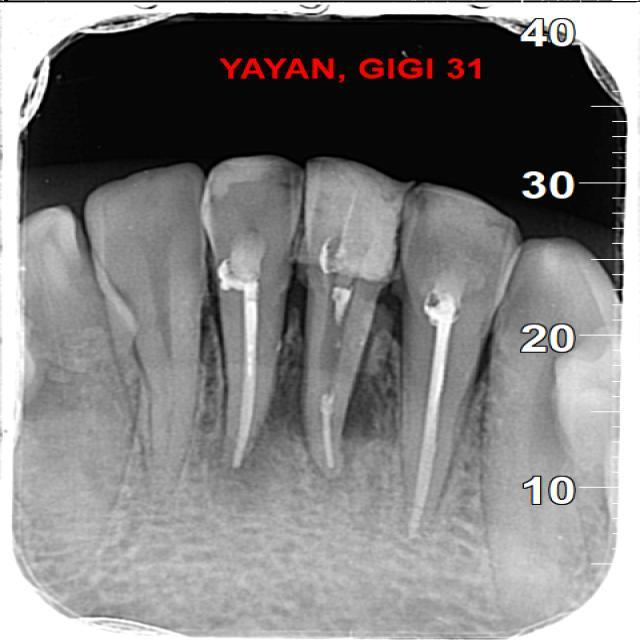individual-tooth-8tto: (392, 192, 509, 539), (303, 158, 412, 476), (203, 157, 308, 474)
